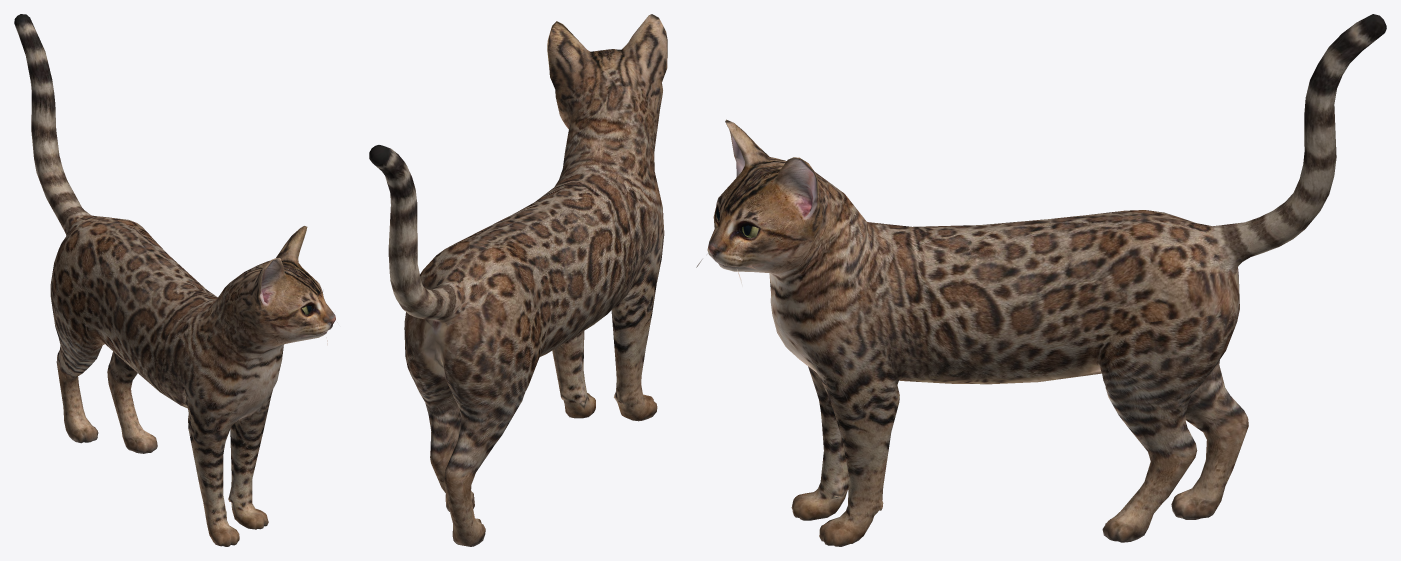
File: cat_lo.glb
3 views of the same model, side by side, from view 1: azimuth 30°, elevation 25°; view 2: azimuth 150°, elevation 25°; view 3: azimuth 270°, elevation 25° (orthographic). The views are drawn at different scales.
Parts seen in each view (by area): view 1: GLTF_created_0; view 2: GLTF_created_0; view 3: GLTF_created_0.
Part boxes in pixels (x1,y1,x2,y2): GLTF_created_0: (14, 14, 337, 546); GLTF_created_0: (369, 14, 667, 546); GLTF_created_0: (696, 14, 1386, 546).
Size of the model in its own units: 0.2932 by 0.8462 by 1.05.
1 material, 1 textured.
